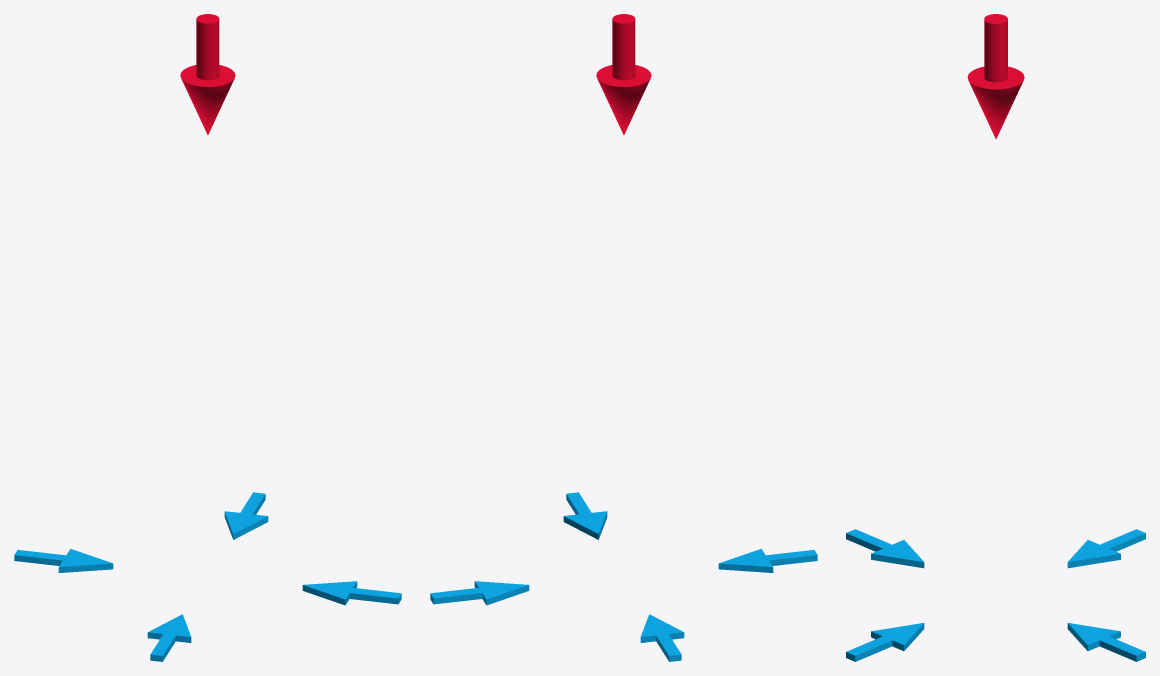
File: yuansu06.d2287c4.glb
3 views of the same model, side by side, from view 1: azimuth 30°, elevation 25°; view 2: azimuth 150°, elevation 25°; view 3: azimuth 270°, elevation 25° (orthographic). The views are drawn at different scales.
Parts seen in each view (by area): view 1: yuansu06; view 2: yuansu06; view 3: yuansu06.
Boxes of the visible parts, x1,y1,x2,y2 form: yuansu06: [14, 14, 401, 661]; yuansu06: [430, 14, 817, 661]; yuansu06: [846, 14, 1145, 661].
Bounding box in the file's own units: 1.13 × 2.4 × 1.13.
